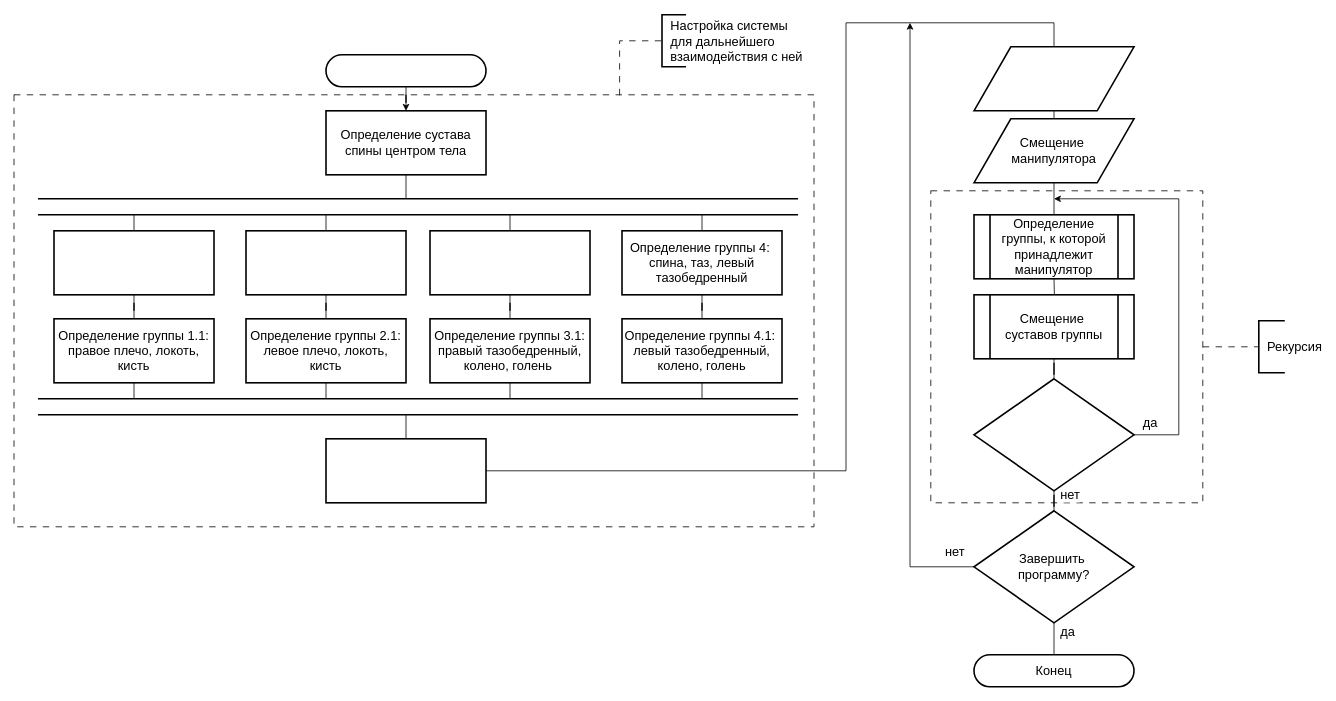
This 1336x701 diagram has some shape labels left out. The shapes that lost their labels are listed below. From the top down, each one's box as (x1, y1, x2, y2) in pixels, then its label:
(325, 54, 486, 87): Начало
(973, 46, 1134, 111): Выбор манипулятора
(53, 230, 214, 295): Определение группы 1: спина, шея, правое плечо
(245, 230, 406, 295): Определение группы 2: спина, шея, левое плечо
(429, 230, 590, 295): Определение группы 3: спина, таз, правый тазобедренный
(973, 378, 1134, 491): Смещен сустав, принадлежащий другой группе?
(325, 438, 486, 503): Вычисление текущего положения суставов
